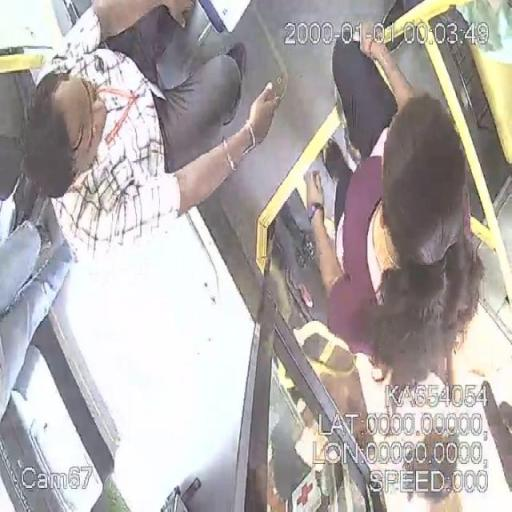persona: (14, 2, 284, 260), (304, 20, 486, 390)
